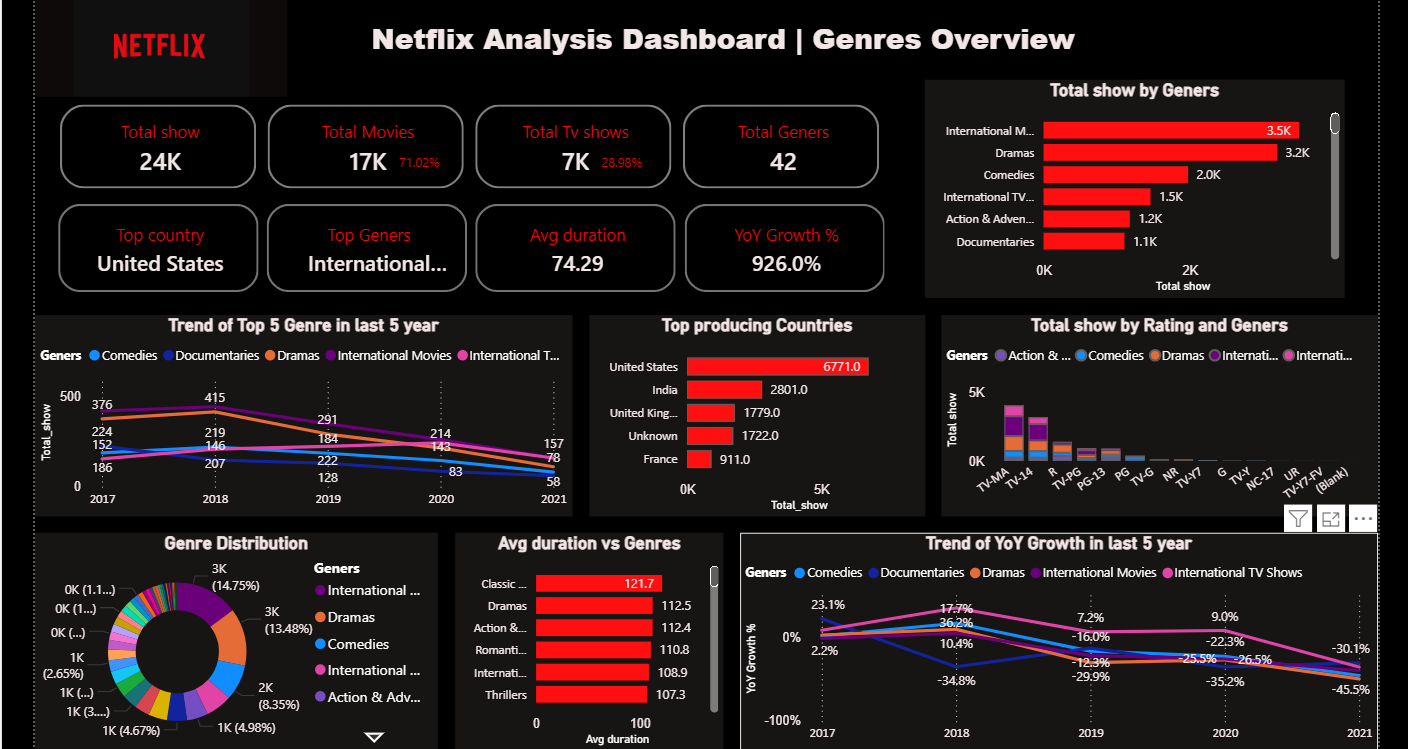

Layout of this report page (visuals, bound fields, positions):
{"tool":"powerbi","page":{"name":"Genre Overview","canvas":[1280,720],"ordinal":1},"visuals":[{"type":"cardVisual","fields":{"Data":["Netflix_dataset.Total_show","Netflix_dataset.Total Movies","Netflix_dataset.Total Tv_shows","Netflix_dataset.Total Geners"]},"box":[0,80,832,128],"z":0},{"type":"textbox","box":[336,144,64,32],"z":1000},{"type":"textbox","box":[528,144,64,32],"z":2000},{"type":"cardVisual","fields":{"Data":["Netflix_dataset.Top country","Netflix_dataset.Top Geners","Netflix_dataset.Avg_duration","Netflix_dataset.YoY growth"]},"box":[0,176,832,128],"z":3000},{"type":"image","box":[0,0,240,96],"z":4000},{"type":"clusteredBarChart","fields":{"Category":["Netflix_dataset.Geners"],"Y":["Netflix_dataset.Total_show"]},"box":[848,80,400,208],"z":5000},{"type":"donutChart","title":"Genre Distribution","fields":{"Y":["Netflix_dataset.Total_show"],"Category":["Netflix_dataset.Geners"]},"box":[0,512,384,208],"z":6000},{"type":"lineChart","title":"Trend of Top 5 Genre in last 5 year","fields":{"Y":["Netflix_dataset.Total_show"],"Series":["Netflix_dataset.Geners"],"Category":["Netflix_dataset.Release_year"]},"box":[0,304,512,192],"z":7000},{"type":"clusteredBarChart","title":"Avg duration vs Genres","fields":{"Category":["Netflix_dataset.Geners"],"Y":["Netflix_dataset.Avg_duration"]},"box":[400,512,256,208],"z":8000},{"type":"barChart","title":"Top producing  Countries","fields":{"Y":["Netflix_dataset.Total_show1"],"Category":["Netflix_dataset.Country"]},"box":[528,304,320,192],"z":9000},{"type":"columnChart","fields":{"Series":["Netflix_dataset.Geners"],"Category":["Netflix_dataset.Rating"],"Y":["Netflix_dataset.Total_show"]},"box":[864,304,416,192],"z":10000},{"type":"lineChart","title":"Trend of YoY Growth in last 5 year","fields":{"Series":["Netflix_dataset.Geners"],"Category":["Netflix_dataset.Release_year"],"Y":["Netflix_dataset.YoY growth"]},"box":[672,512,608,208],"z":11000},{"type":"textbox","box":[256,16,800,64],"z":12000}]}

Visuals, with their boxes on the page's 1280x720 design canvas (x1, y1, x2, y2). These are canvas units, not pixel positions in the 1408x749 screenshot, which may show the page scaled, cropped or inside an application window:
cardVisual - Netflix_dataset.Total_show x Netflix_dataset.Total Movies: [0,80,832,208]
textbox: [336,144,400,176]
textbox: [528,144,592,176]
cardVisual - Netflix_dataset.Top country x Netflix_dataset.Top Geners: [0,176,832,304]
image: [0,0,240,96]
clusteredBarChart - Netflix_dataset.Geners x Netflix_dataset.Total_show: [848,80,1248,288]
"Genre Distribution" donutChart: [0,512,384,720]
"Trend of Top 5 Genre in last 5 year" lineChart: [0,304,512,496]
"Avg duration vs Genres" clusteredBarChart: [400,512,656,720]
"Top producing  Countries" barChart: [528,304,848,496]
columnChart - Netflix_dataset.Geners x Netflix_dataset.Rating: [864,304,1280,496]
"Trend of YoY Growth in last 5 year" lineChart: [672,512,1280,720]
textbox: [256,16,1056,80]
